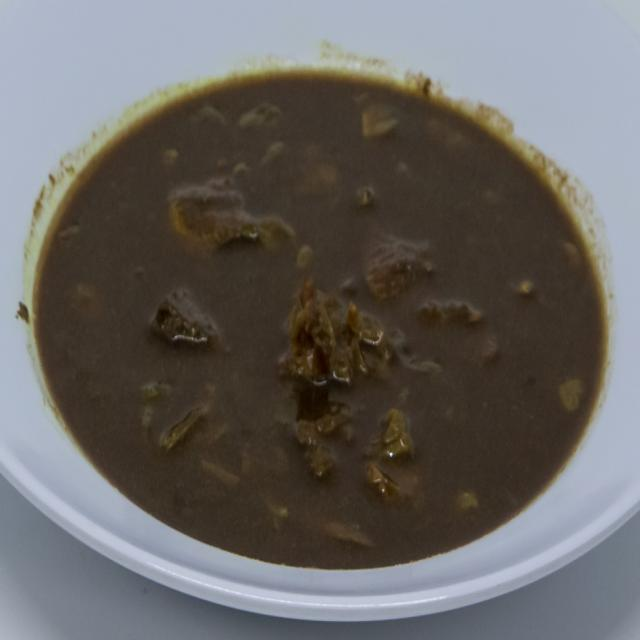Rawon-Surabaya: (28, 41, 616, 592)
